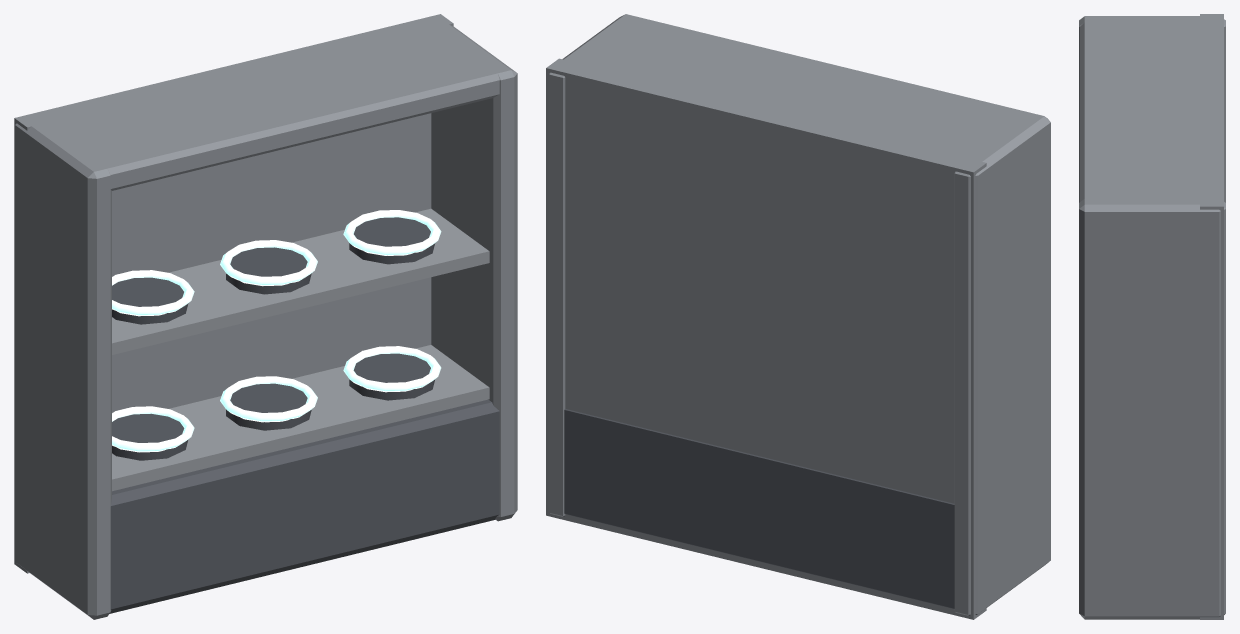
Rendered from lt_charge_rack.glb.
3 renders of one model, left to right at view 1: azimuth 30°, elevation 25°; view 2: azimuth 150°, elevation 25°; view 3: azimuth 270°, elevation 25°, orthographic. The views are drawn at different scales.
Visible parts, largest first — view 1: lt_charge_rack; view 2: lt_charge_rack; view 3: lt_charge_rack.
Part boxes in pixels (x1=…): lt_charge_rack: x1=14, y1=14, x2=517, y2=619; lt_charge_rack: x1=546, y1=14, x2=1050, y2=619; lt_charge_rack: x1=1079, y1=14, x2=1225, y2=619.
Bounding box in the file's own units: 1.92 × 1.91 × 0.612.
